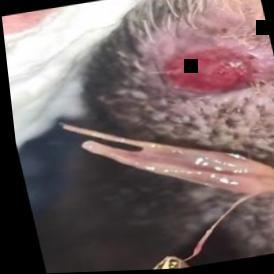skin_lesions: (152, 38, 266, 105)
